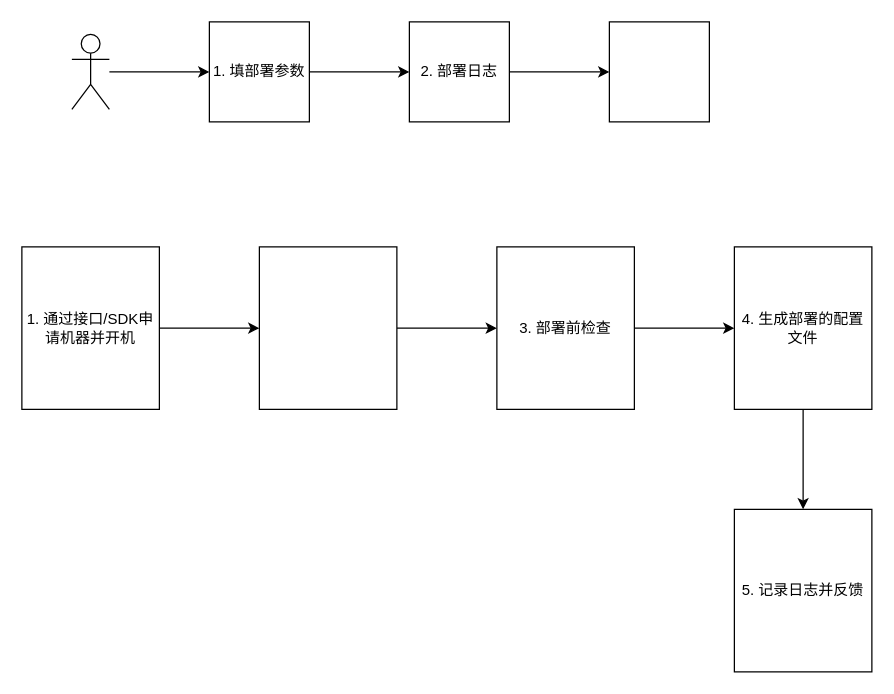
Image size: 894x694. Some labels were removed from this diagram. The shapes that lost their labels are listed below. From the top down, each one's centre as x and y in pixels, then its label:
point 90,71: Actor
point 658,71: 3. 发送部署结果
point 327,327: 2. 配置磁盘等环境
